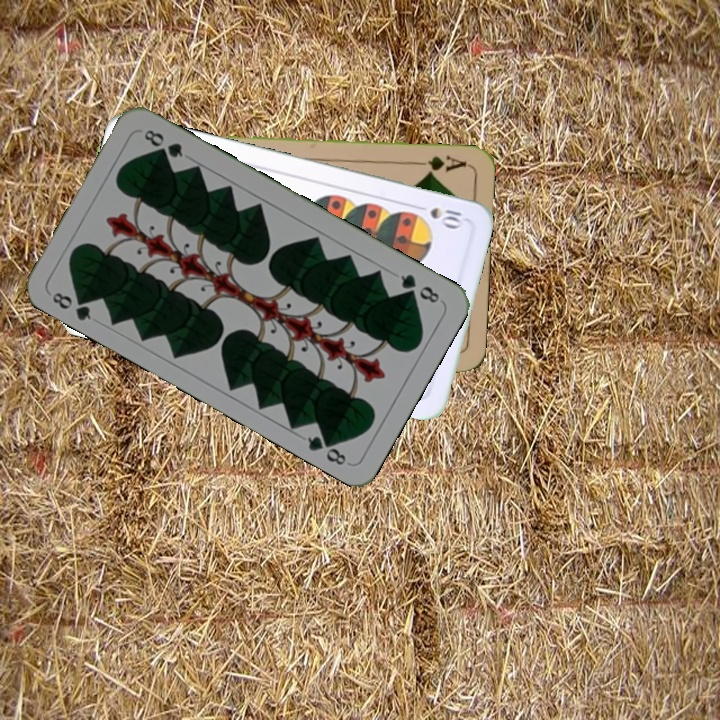G8: (396, 269, 442, 306), (48, 288, 94, 324)
GA: (410, 152, 469, 177)
S10: (426, 203, 468, 230)
